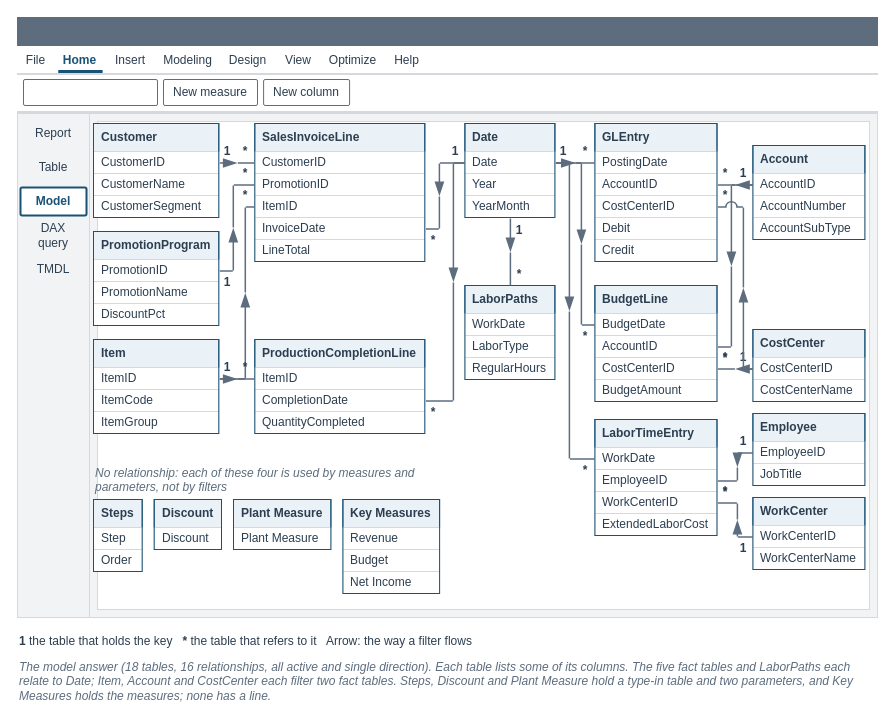
The diagram is 895 pixels wide and 726 high, and some of its shapes have lost their labels. Each missing label, with the box of its shape:
Chapter 15 Exercises - Solutions - Power BI Desktop: (16, 16, 878, 46)
Manage relationships: (22, 78, 158, 106)
